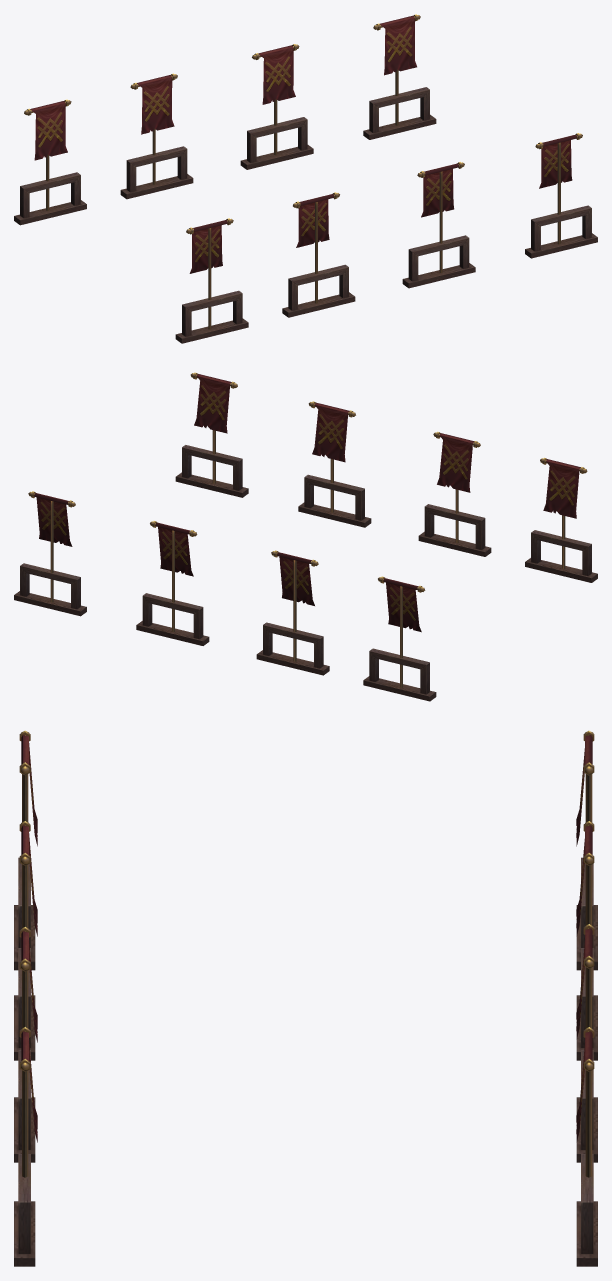
File: wujian61.fbx
The picture shows the model from 3 angles, top to bottom: view 1: azimuth 30°, elevation 25°; view 2: azimuth 150°, elevation 25°; view 3: azimuth 270°, elevation 25°; orthographic projection. The views are drawn at different scales.
Parts seen in each view (by area): view 1: wujian61; view 2: wujian61; view 3: wujian61.
Boxes of the visible parts, bbox=[...] form: wujian61: bbox=[14, 14, 597, 343]; wujian61: bbox=[14, 372, 597, 701]; wujian61: bbox=[14, 730, 597, 1266].
Bounding box in the file's own units: 1737 × 444 × 1215.
Materials: 1 (1 with a texture image).
